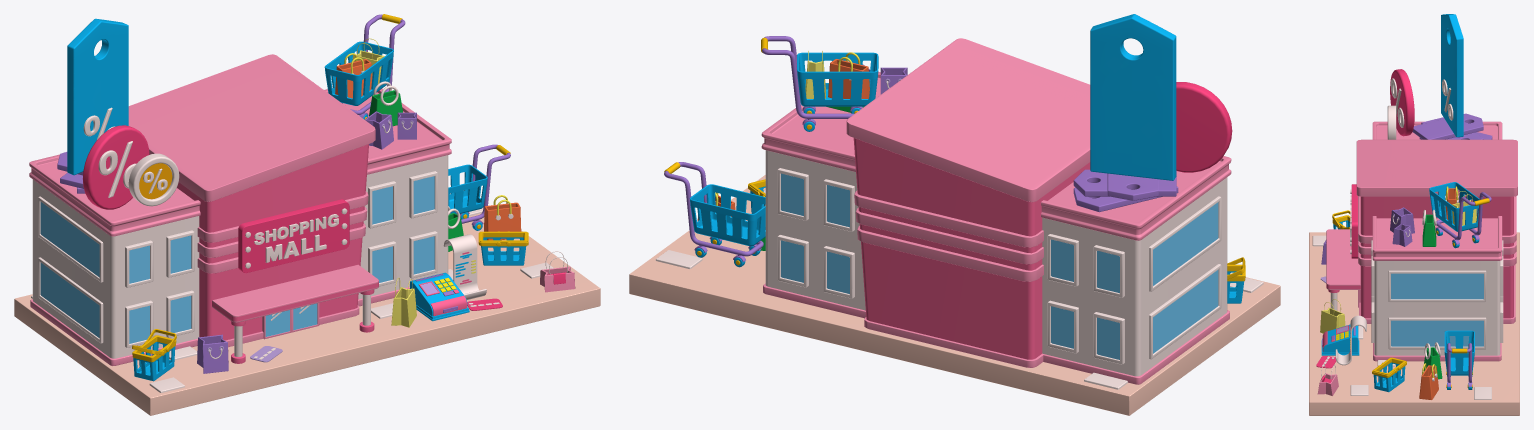
Rendered from Public_Island_10.glb.
3 renders of one model, left to right at view 1: azimuth 30°, elevation 25°; view 2: azimuth 150°, elevation 25°; view 3: azimuth 270°, elevation 25°, orthographic. The views are drawn at different scales.
Parts seen in each view (by area): view 1: Public_10_Shopping_Mall_1, Public_10_Base_1, Public_10_Label_1, Public_10_Discount_Sign_1, Public_10_Trolley_on_Wheels_1, Public_10_Trolley_on_Wheels_2, Public_10_Discount_Sign_2, Public_10_Payment_Terminal_1, Public_10_Food_Basket_1, Public_10_Payment_Check_1, Public_10_Food_Basket_2, Public_10_Package_7 (+7 smaller); view 2: Public_10_Shopping_Mall_1, Public_10_Base_1, Public_10_Label_1, Public_10_Trolley_on_Wheels_2, Public_10_Trolley_on_Wheels_1, Public_10_Discount_Sign_1, Public_10_Label_4, Public_10_Label_3, Public_10_Package_5, Public_10_Label_2, Public_10_Food_Basket_1; view 3: Public_10_Shopping_Mall_1, Public_10_Base_1, Public_10_Label_1, Public_10_Trolley_on_Wheels_1, Public_10_Trolley_on_Wheels_2, Public_10_Discount_Sign_1, Public_10_Label_4, Public_10_Payment_Terminal_1, Public_10_Food_Basket_2, Public_10_Package_7, Public_10_Package_10, Public_10_Package_4 (+10 smaller).
Part boxes in pixels (x1,y1,x2,y2): Public_10_Shopping_Mall_1: [29, 54, 451, 366]; Public_10_Base_1: [14, 193, 600, 415]; Public_10_Label_1: [67, 18, 128, 175]; Public_10_Discount_Sign_1: [82, 125, 149, 209]; Public_10_Trolley_on_Wheels_1: [324, 14, 405, 119]; Public_10_Trolley_on_Wheels_2: [448, 144, 510, 230]; Public_10_Discount_Sign_2: [128, 153, 179, 206]; Public_10_Payment_Terminal_1: [410, 272, 469, 321]; Public_10_Food_Basket_1: [132, 329, 176, 381]; Public_10_Payment_Check_1: [443, 234, 486, 299]; Public_10_Food_Basket_2: [478, 231, 528, 265]; Public_10_Package_7: [484, 195, 521, 240]; Public_10_Shopping_Mall_1: [761, 38, 1231, 384]; Public_10_Base_1: [629, 175, 1280, 415]; Public_10_Label_1: [1090, 14, 1176, 180]; Public_10_Trolley_on_Wheels_2: [664, 162, 765, 267]; Public_10_Trolley_on_Wheels_1: [761, 36, 878, 131]; Public_10_Discount_Sign_1: [1176, 82, 1232, 172]; Public_10_Label_4: [1107, 173, 1158, 200]; Public_10_Label_3: [1073, 169, 1176, 196]; Public_10_Package_5: [828, 52, 869, 98]; Public_10_Label_2: [1073, 186, 1178, 212]; Public_10_Food_Basket_1: [1227, 257, 1245, 303]; Public_10_Shopping_Mall_1: [1326, 121, 1517, 361]; Public_10_Base_1: [1309, 232, 1519, 415]; Public_10_Label_1: [1441, 14, 1463, 137]; Public_10_Trolley_on_Wheels_1: [1429, 182, 1491, 248]; Public_10_Trolley_on_Wheels_2: [1444, 330, 1474, 389]; Public_10_Discount_Sign_1: [1390, 69, 1414, 136]; Public_10_Label_4: [1412, 113, 1483, 139]; Public_10_Payment_Terminal_1: [1321, 324, 1359, 355]; Public_10_Food_Basket_2: [1372, 357, 1406, 392]; Public_10_Package_7: [1419, 363, 1438, 399]; Public_10_Package_10: [1320, 299, 1345, 333]; Public_10_Package_4: [1422, 210, 1436, 246].
Bounding box in the file's own units: 33.64 × 22.09 × 17.12.
Materials: 26 (26 with a texture image).
